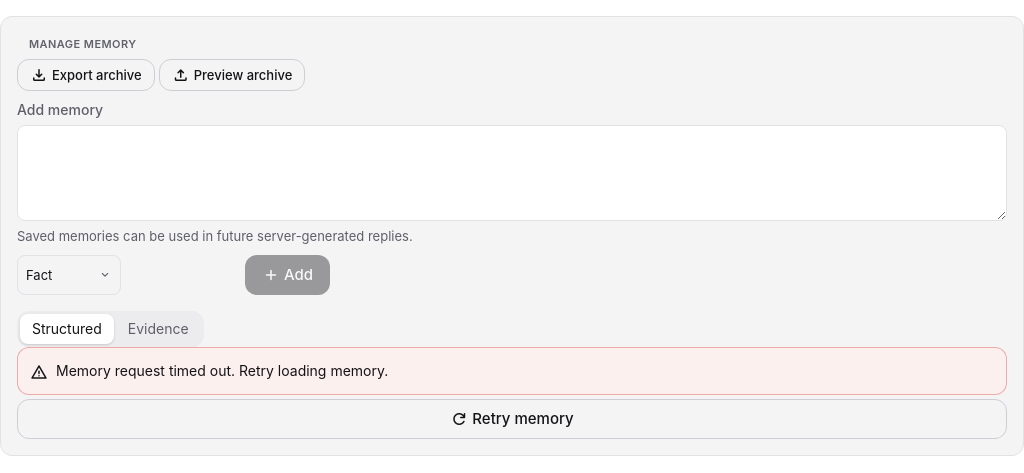
Scenario: MemoryManager load ownership › retries a failed structured profile without changing views
This screenshot has width=1024, height=473.
Expected: the text "Memory request timed out. Retry loading memory." is shown, [56,360,388,382]
Click the button "Retry memory": (512, 419) [17,399,1007,439]
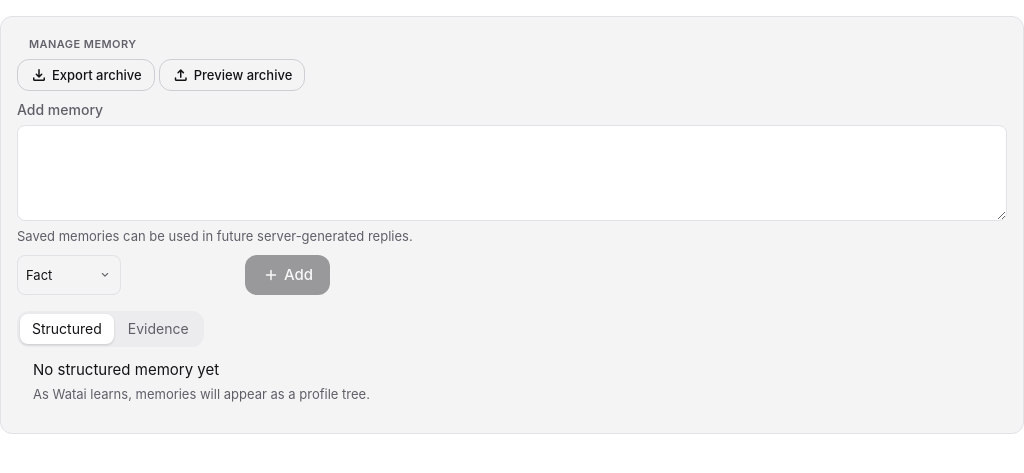
Expected: the text "No structured memory yet" is shown, [33,360,219,379]
